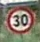limite 30: (5, 6, 34, 33)
